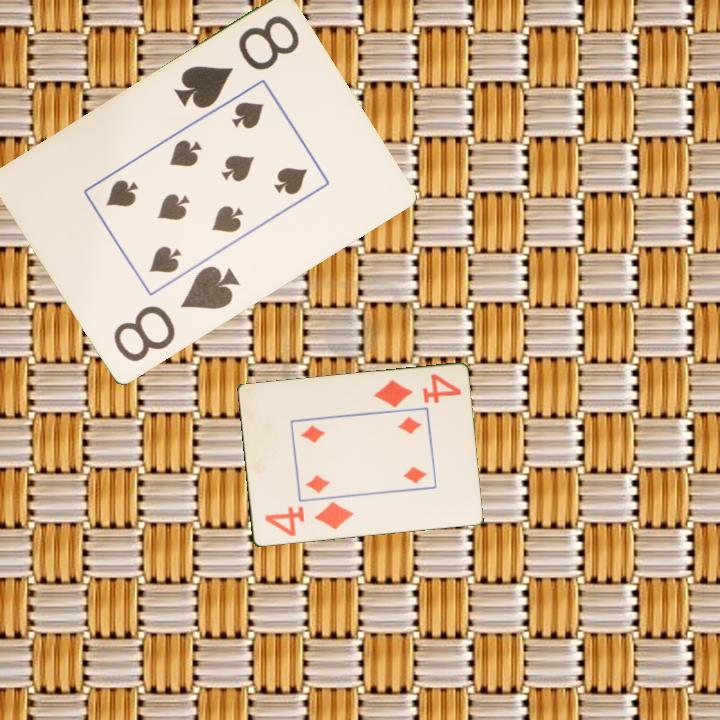4d: (261, 498, 356, 539), (370, 370, 464, 411)
8s: (109, 262, 243, 366), (170, 12, 303, 113)
